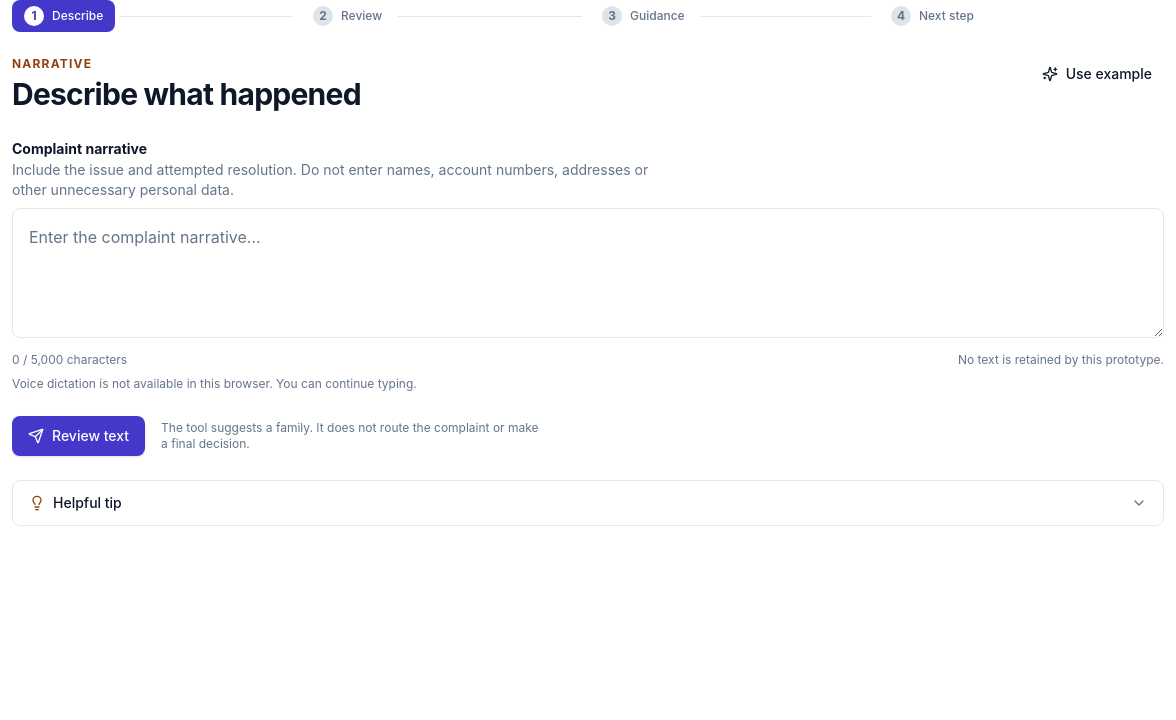
ClassificationPage › communicates the local narrative size limit before sending content
Type "Synthetic text" into the text box labelled "Complaint narrative". click: (588, 273)
box: [12,208,1164,338]
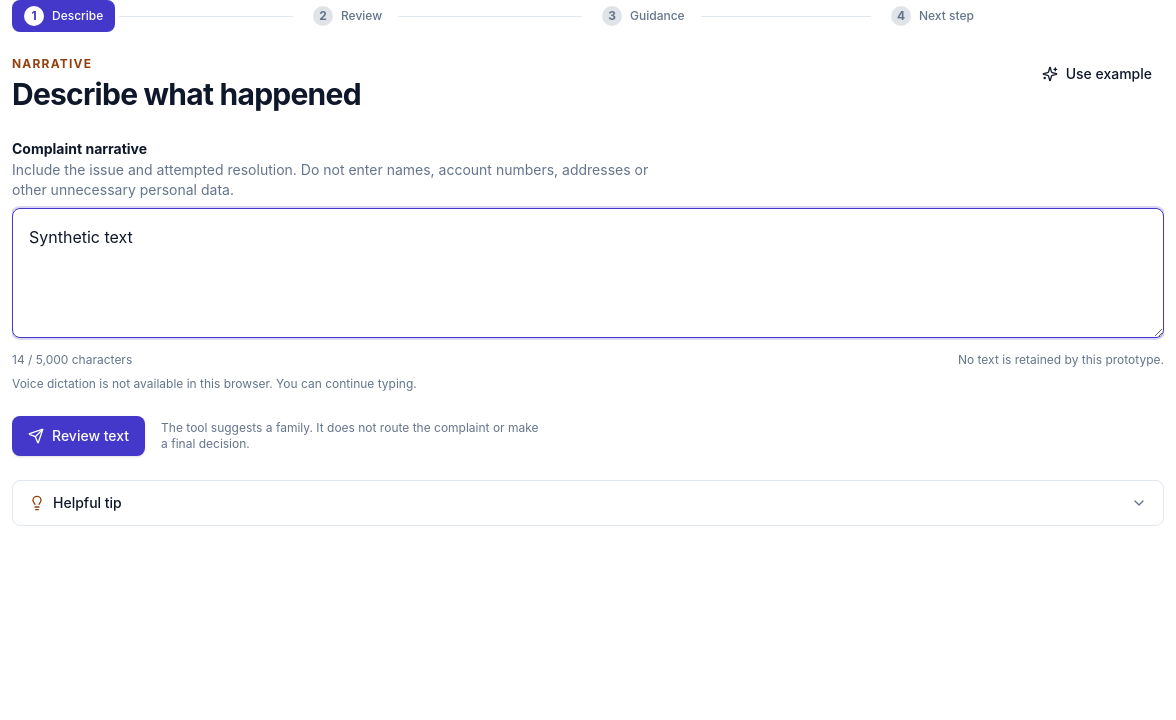
Expected: the text "14 / 5,000 characters" is shown, [12,352,132,368]
